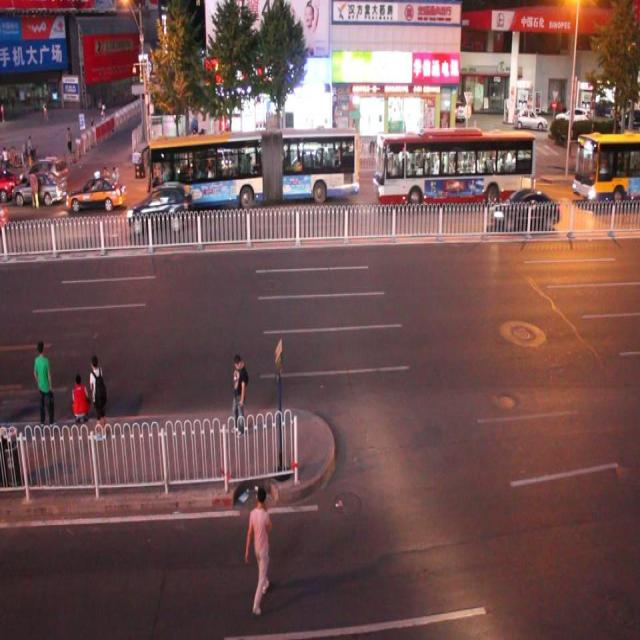car: (490, 185, 557, 230), (127, 186, 189, 230), (66, 174, 125, 212), (14, 171, 66, 206), (186, 146, 228, 189), (282, 147, 330, 182), (25, 151, 68, 189), (0, 163, 16, 200)
van: (146, 128, 360, 206), (375, 125, 534, 206), (572, 127, 640, 206)
